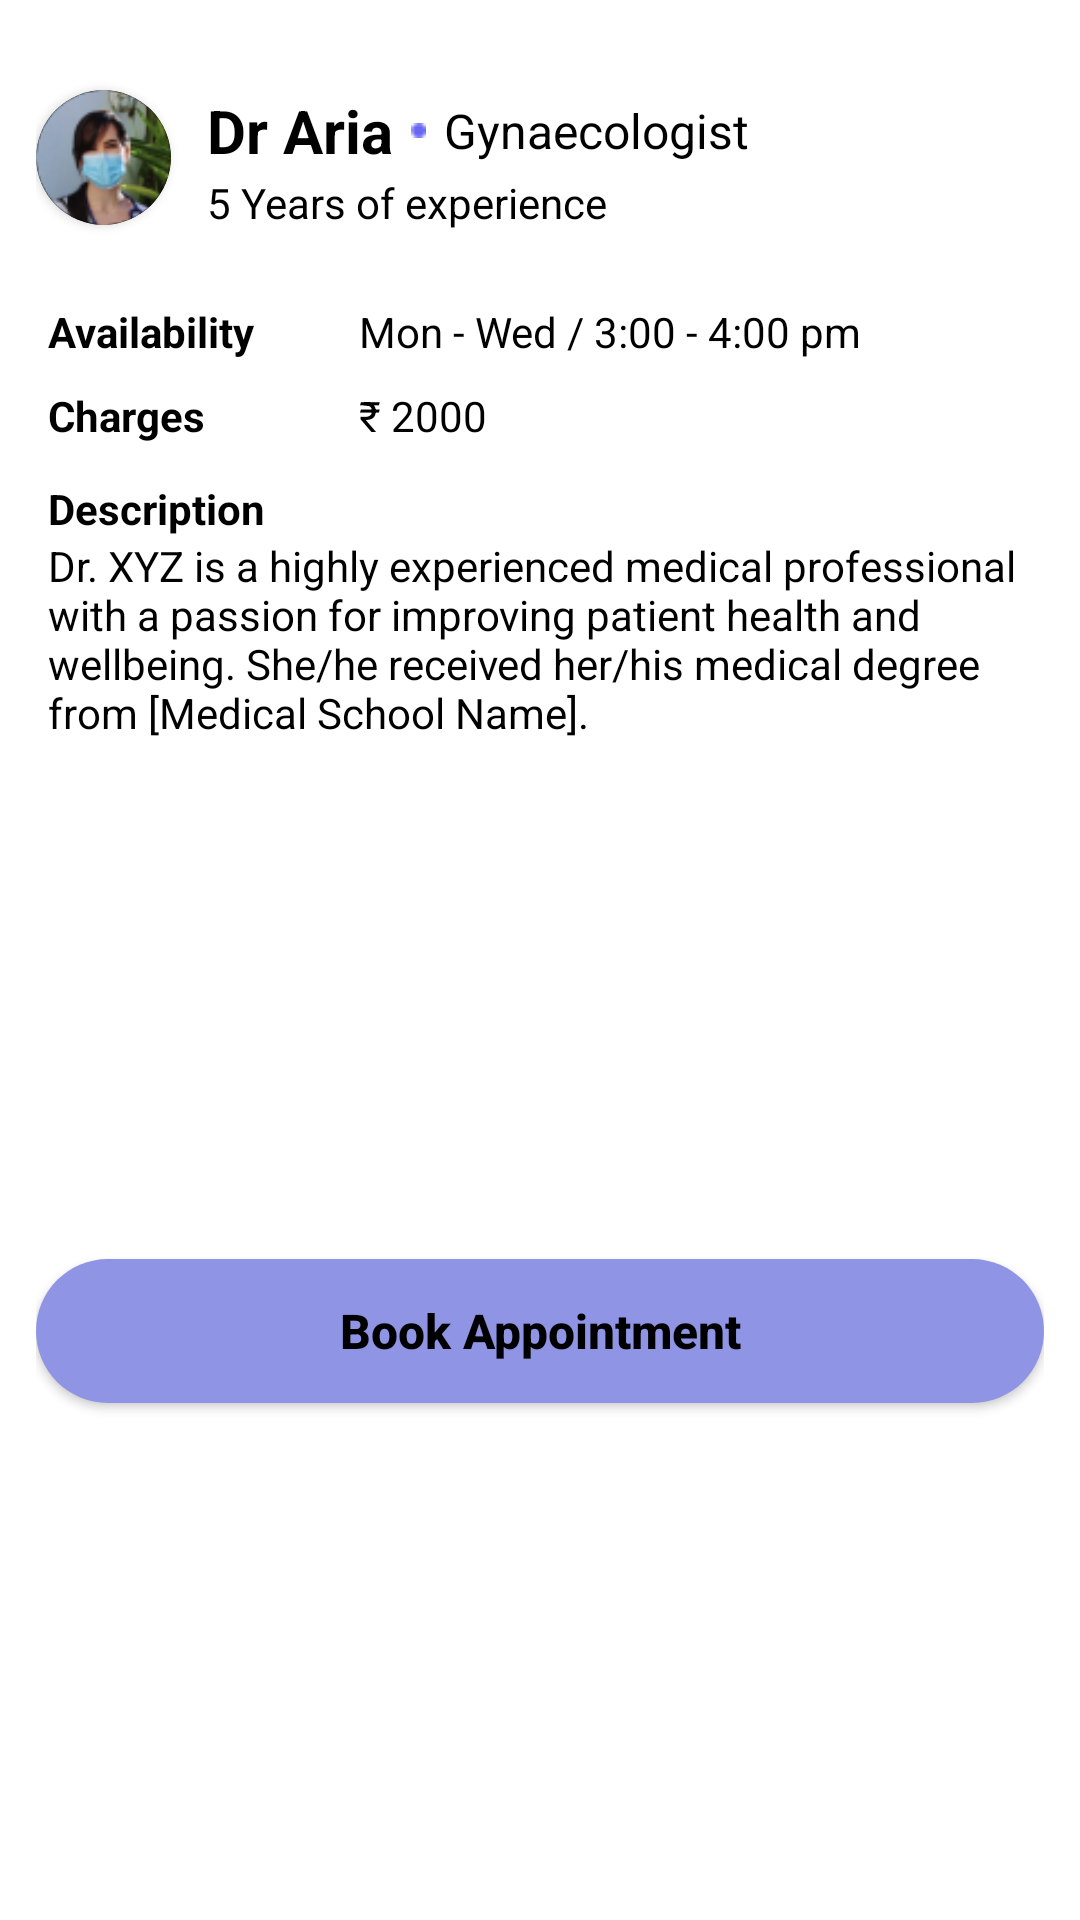

Icon bounding boxes for this 1080w x 1920h phone screenshot, format (x1, y1, x2, y2):
doctor: (36, 90, 171, 225)
